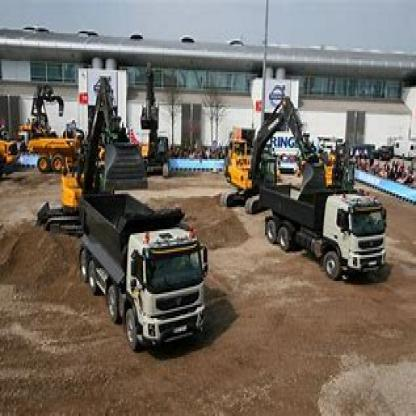dump_truck: (71, 180, 226, 352), (252, 174, 398, 283)
